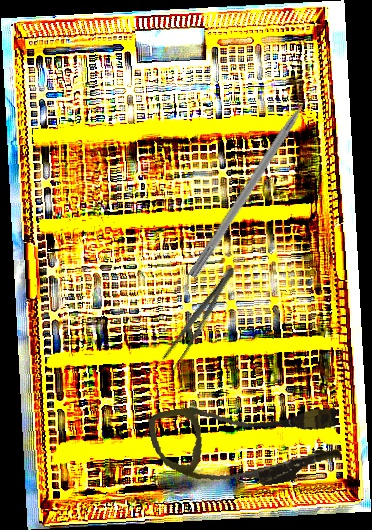Cannula: (147, 384, 345, 503)
Dressing Forceps: (155, 261, 242, 378)
Pusher: (187, 78, 325, 281)
